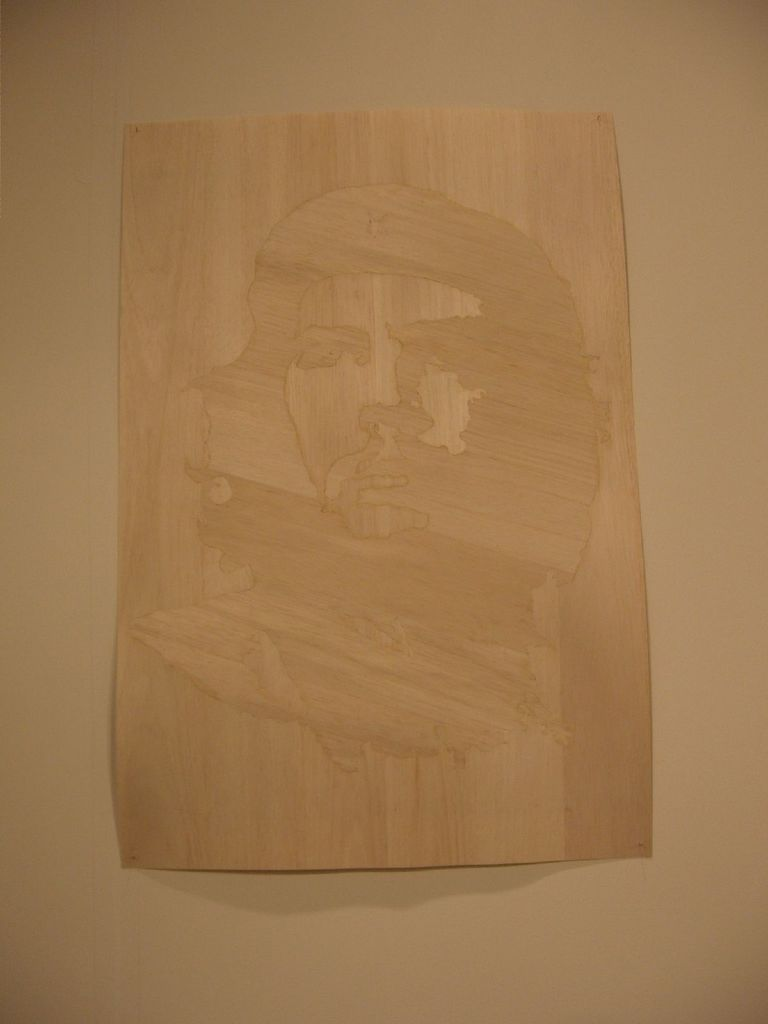Human-face: (290, 272, 484, 529)
